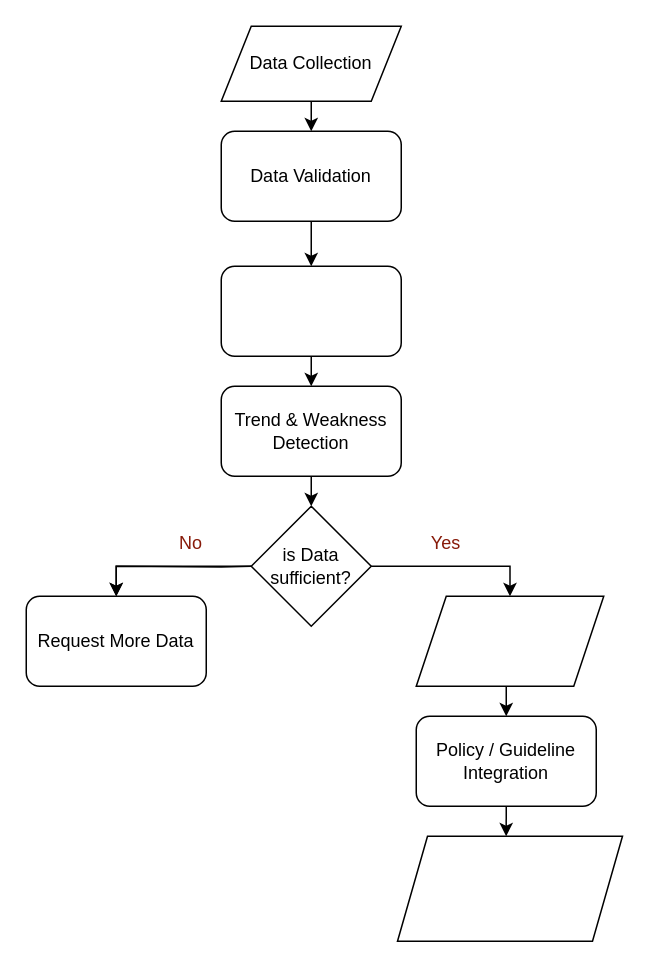
Some shapes in this 650 by 968 pixel diagram are drawn without their labels. Each missing label, with the centre of its shape:
"Data Processing" goes at [310,310].
"Insight Generation" goes at [509,640].
"LLM Personalized Recommendation" goes at [509,888].
